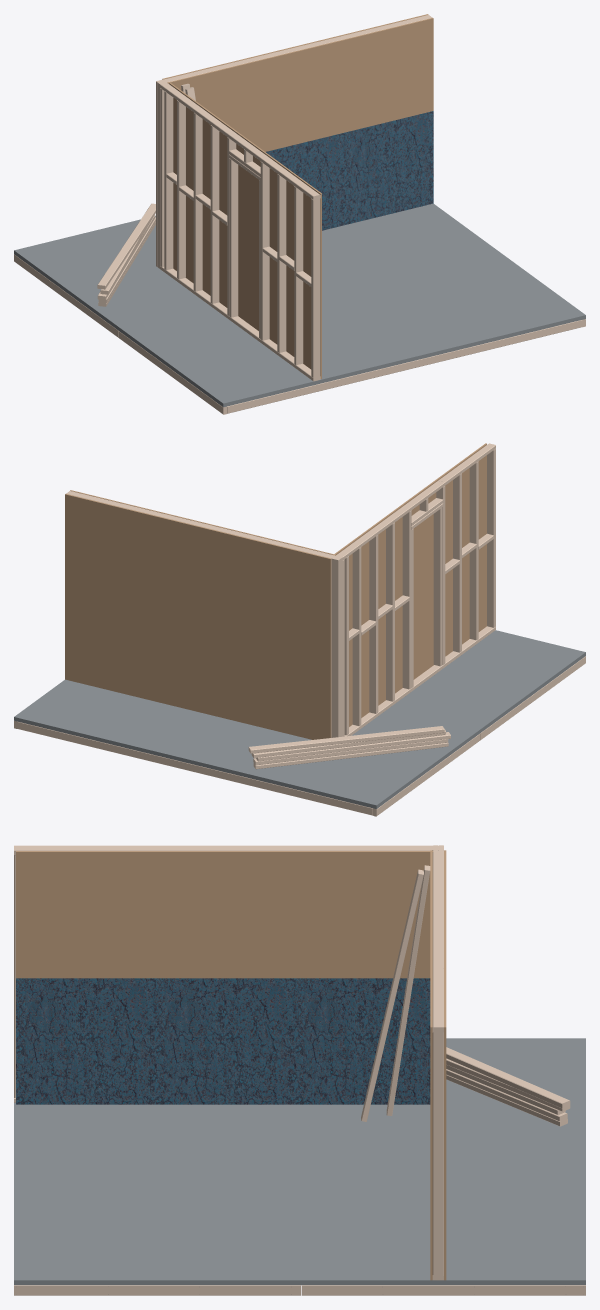
Rendered from Walls.fbx.
The picture shows the model from 3 angles, top to bottom: view 1: azimuth 30°, elevation 25°; view 2: azimuth 150°, elevation 25°; view 3: azimuth 270°, elevation 25°; orthographic projection. The views are drawn at different scales.
Parts seen in each view (by area): view 1: ground, drywall_panel, stud_frame, drywall_panel.001, stud_pile; view 2: OSB_Panel, ground, stud_frame, drywall_panel.001, stud_pile; view 3: ground, drywall_panel.001, stud_frame, stud_pile, drywall_panel, OSB_Panel.
Part boxes in pixels (box(x1,y1,x2,y2)): ground: box(14, 203, 585, 414); drywall_panel: box(167, 17, 433, 230); stud_frame: box(156, 15, 432, 381); drywall_panel.001: box(168, 82, 321, 378); stud_pile: box(97, 83, 195, 306); OSB_Panel: box(65, 494, 331, 739); ground: box(14, 630, 585, 816); stud_frame: box(66, 443, 495, 737); drywall_panel.001: box(333, 443, 486, 726); stud_pile: box(248, 726, 450, 769); ground: box(14, 1038, 585, 1295); drywall_panel.001: box(16, 851, 433, 1104); stud_frame: box(14, 845, 443, 1280); stud_pile: box(361, 865, 570, 1126); drywall_panel: box(430, 850, 432, 1280); OSB_Panel: box(444, 850, 446, 1280).
Size of the model in its own units: 500 by 259 by 500.
